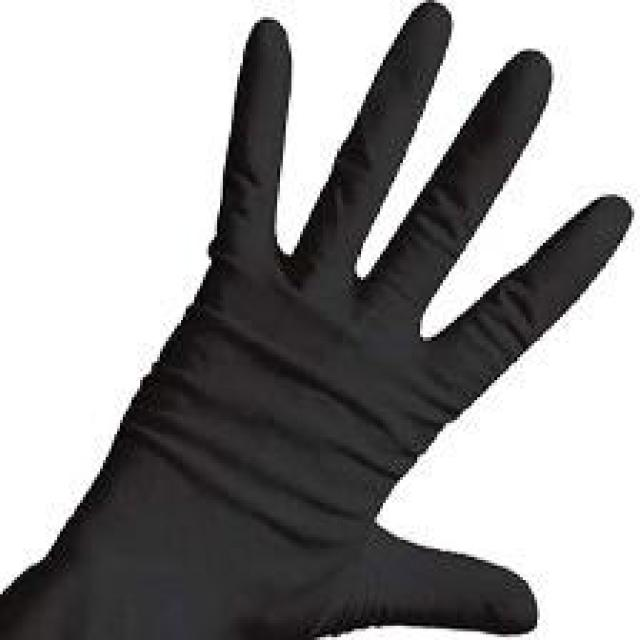Glove: (21, 19, 640, 640)
